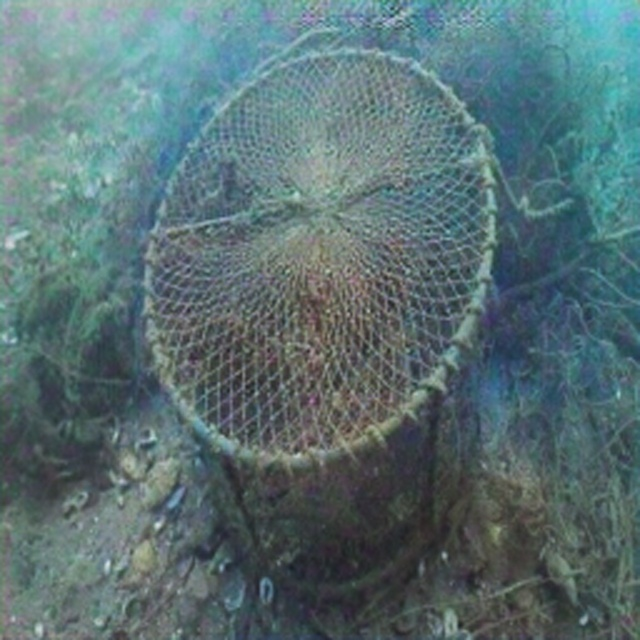mine: (142, 47, 496, 601)
